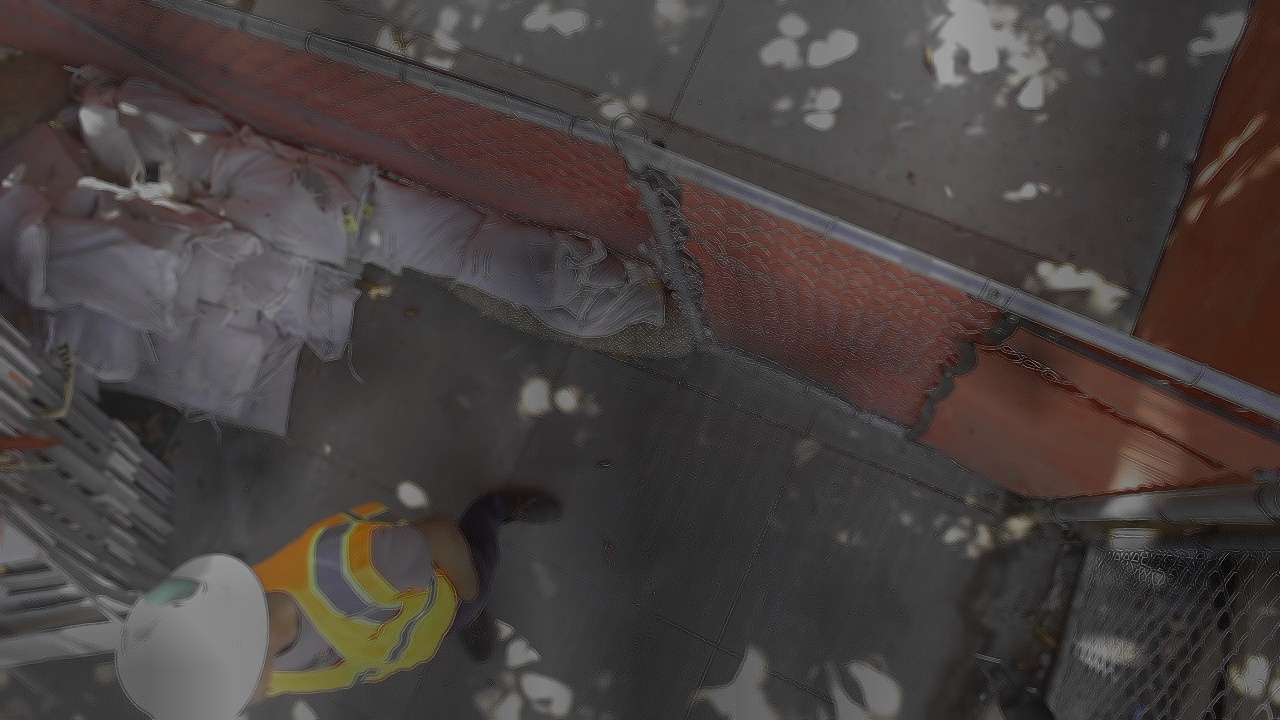green: (142, 575, 205, 609)
hardhat: (113, 550, 271, 718)
person: (111, 484, 563, 718)
safetyvest: (249, 501, 459, 697)
